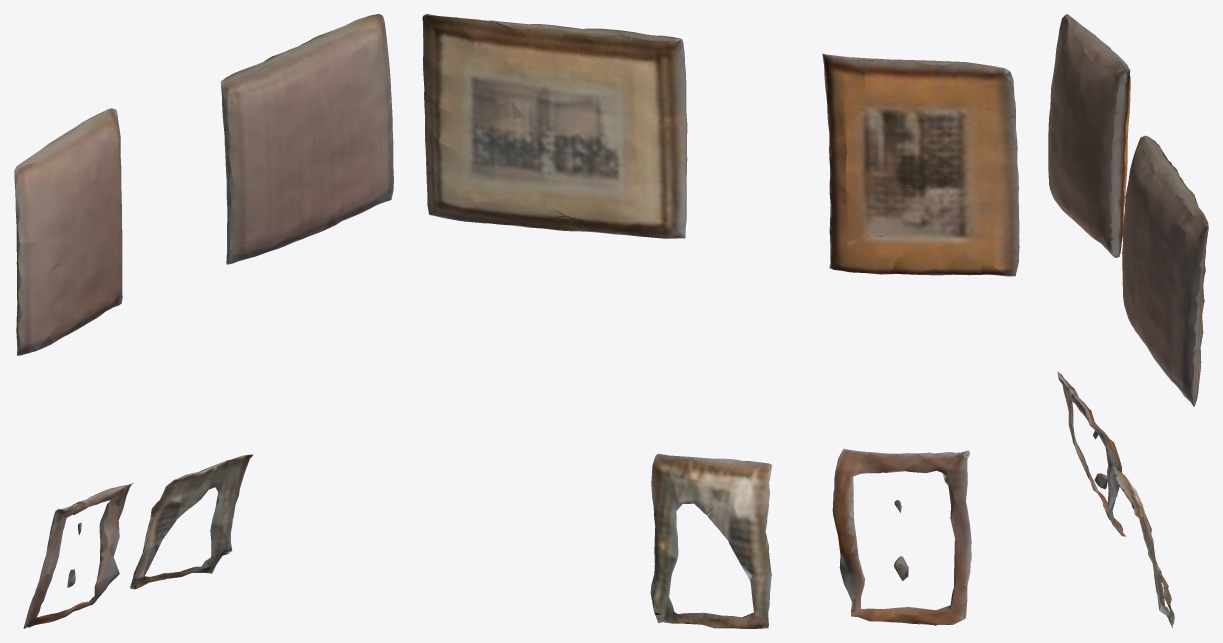
3 renders of one model, left to right at view 1: azimuth 30°, elevation 25°; view 2: azimuth 150°, elevation 25°; view 3: azimuth 270°, elevation 25°, orthographic. The views are drawn at different scales.
Visible parts, largest first — view 1: world; view 2: world; view 3: world.
Boxes of the visible parts, left/top/right/bottom form: world: left=14, top=14, right=393, bottom=628; world: left=422, top=14, right=1019, bottom=628; world: left=1048, top=14, right=1208, bottom=627.
Size of the model in its own units: 0.6423 by 0.7018 by 0.2041.
Materials: 1 (1 with a texture image).
